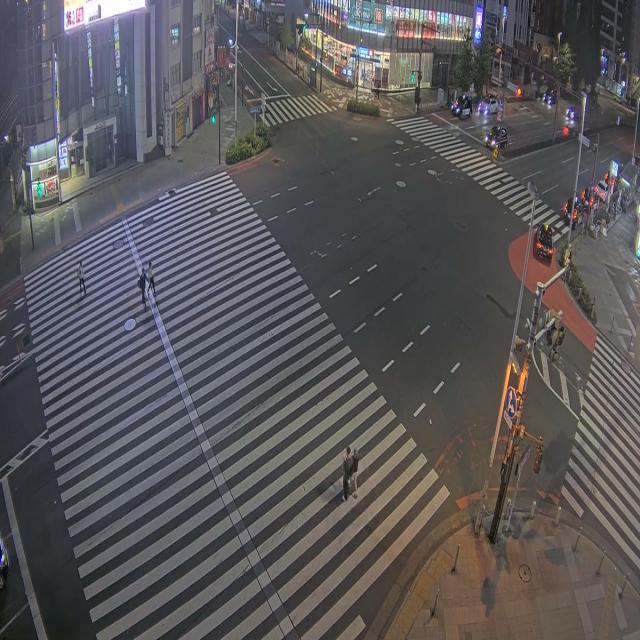car: (534, 224, 553, 262), (562, 196, 583, 225), (485, 126, 507, 149), (0, 540, 8, 589), (453, 96, 471, 117), (478, 96, 498, 114), (594, 180, 608, 202), (565, 105, 581, 121), (543, 89, 556, 105), (449, 99, 456, 113)
